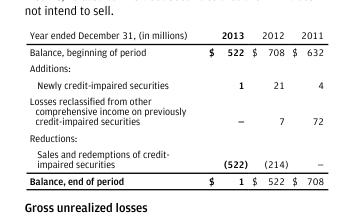table: (28, 28, 323, 185)
table column: (28, 28, 197, 185), (197, 28, 249, 185), (249, 28, 289, 185), (289, 28, 323, 185)
table column header: (28, 28, 323, 42)
table projected row header: (28, 128, 323, 145), (28, 59, 323, 75)
table row: (28, 92, 323, 128), (28, 145, 323, 171), (28, 42, 323, 59), (28, 75, 323, 92), (28, 128, 323, 145), (28, 59, 323, 75), (28, 28, 323, 42), (28, 171, 323, 185)
